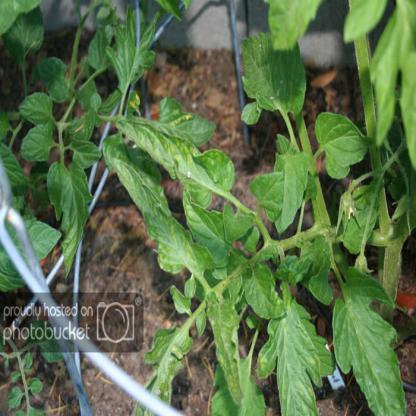Tomato leaf mosaic virus: (322, 268, 405, 415), (251, 265, 330, 415), (114, 157, 197, 276), (238, 28, 310, 129), (45, 153, 97, 278), (314, 113, 371, 183), (234, 256, 285, 320), (252, 167, 290, 220)
